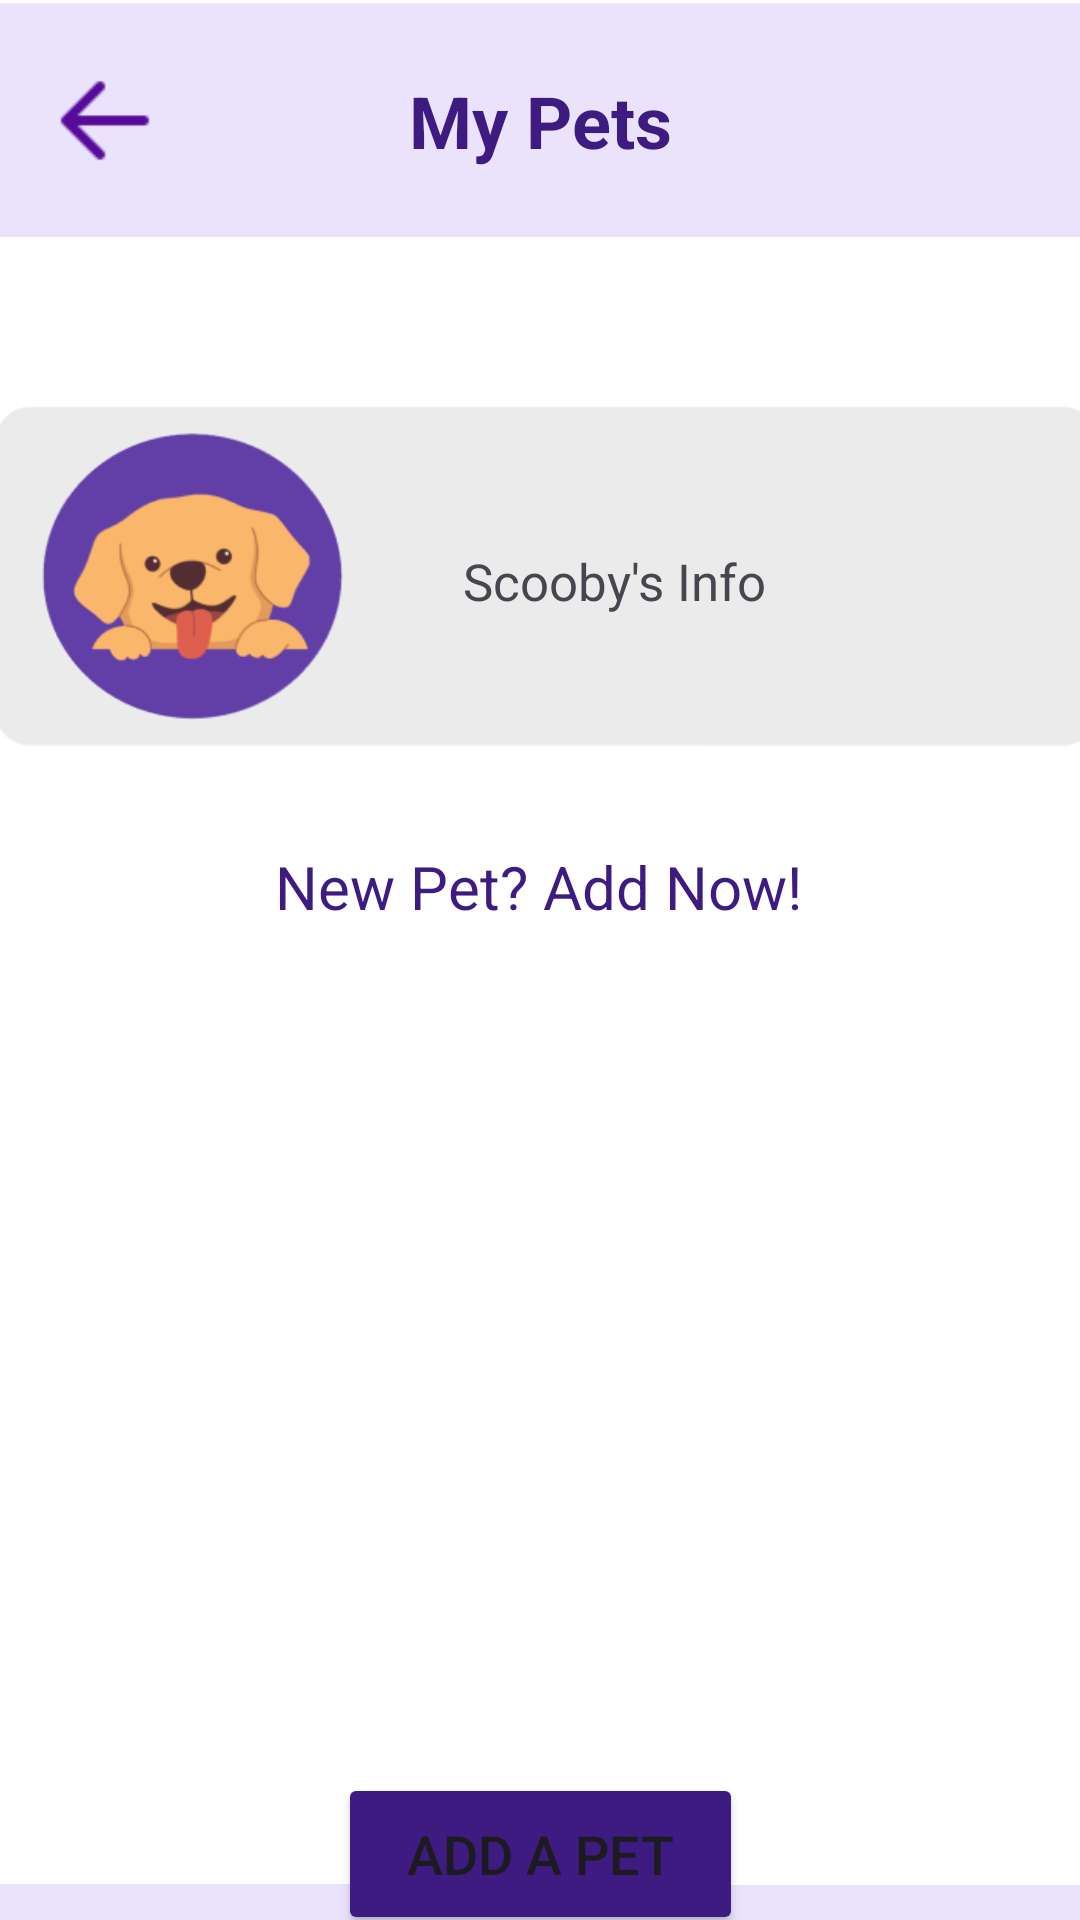

Named icons in this screenshot (1080px×1920px) and their centers, (x,y):
arrowback: (105,120)
